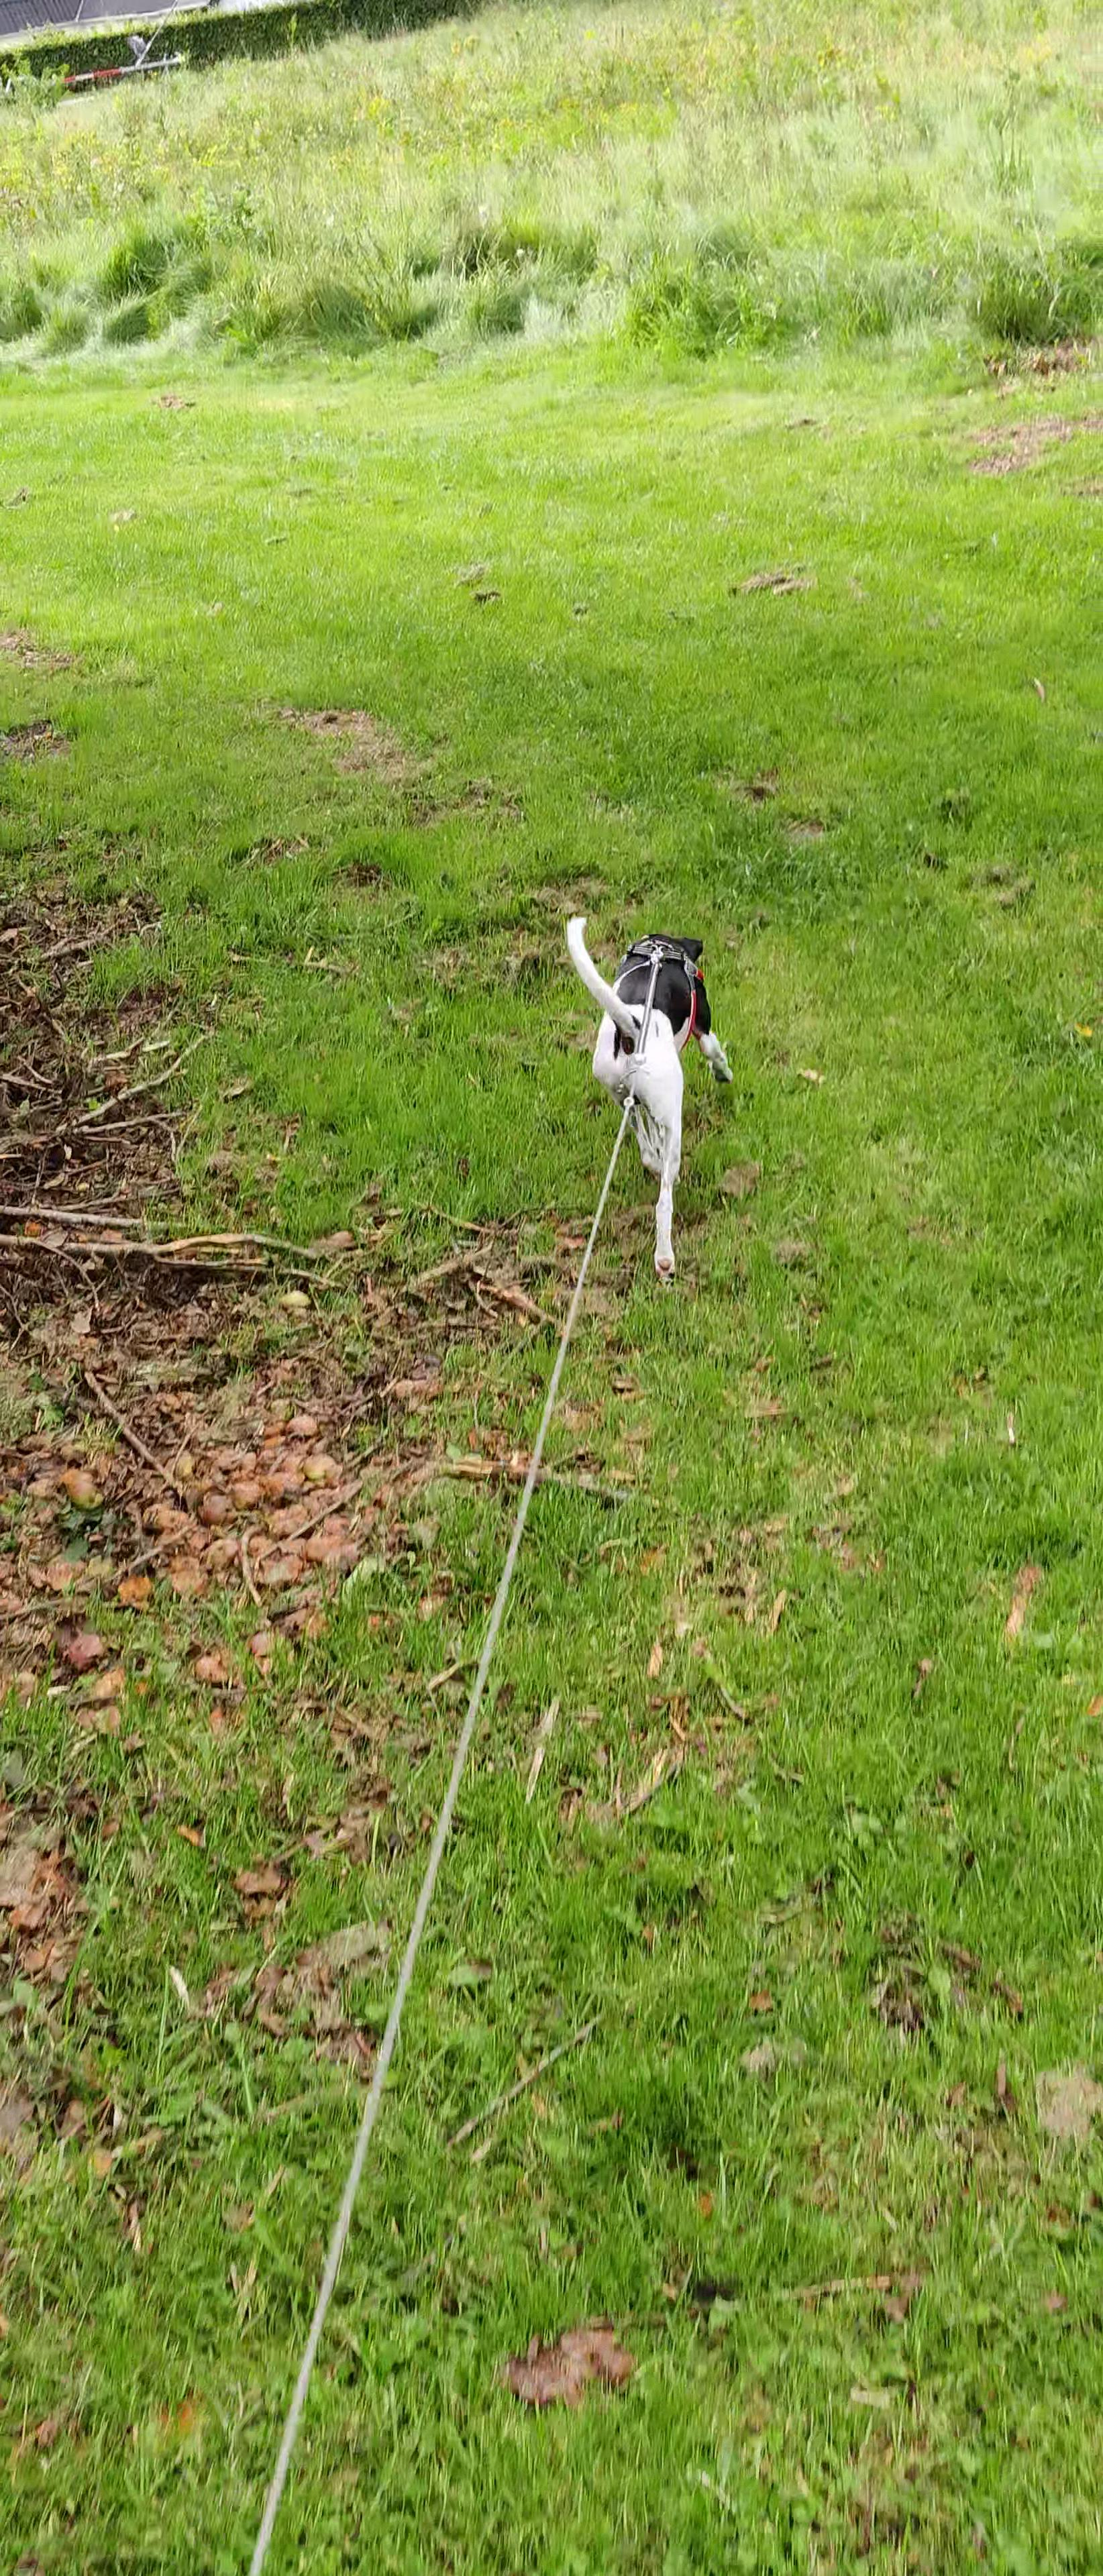Dog: (544, 897, 748, 1286)
